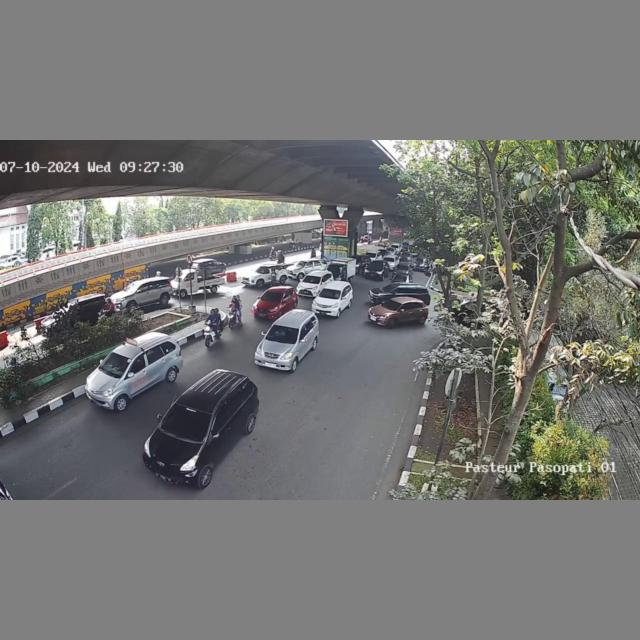windshield: (159, 402, 214, 440), (266, 322, 306, 344), (98, 354, 133, 375), (319, 288, 346, 303), (259, 289, 284, 303), (380, 299, 401, 312), (302, 275, 321, 283)
